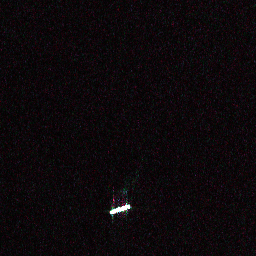ship: (107, 201, 132, 217)
